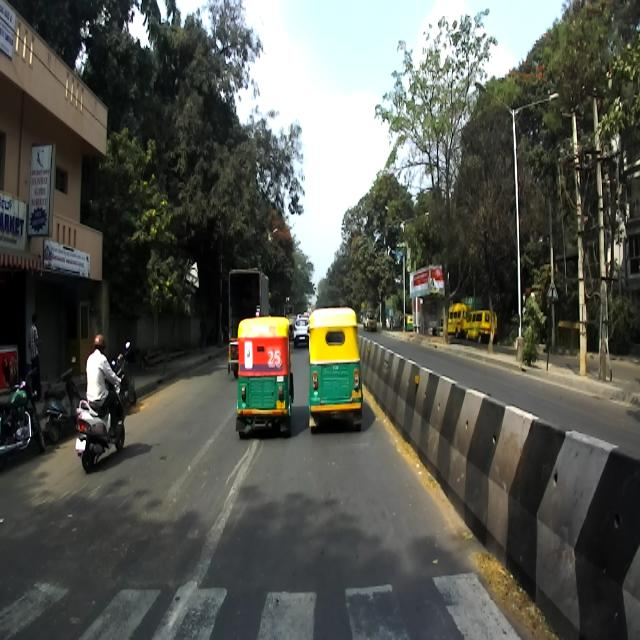auto ahead at: (305, 306, 365, 439), (232, 312, 292, 436)
motorcycle ahead at: (73, 397, 129, 482)
